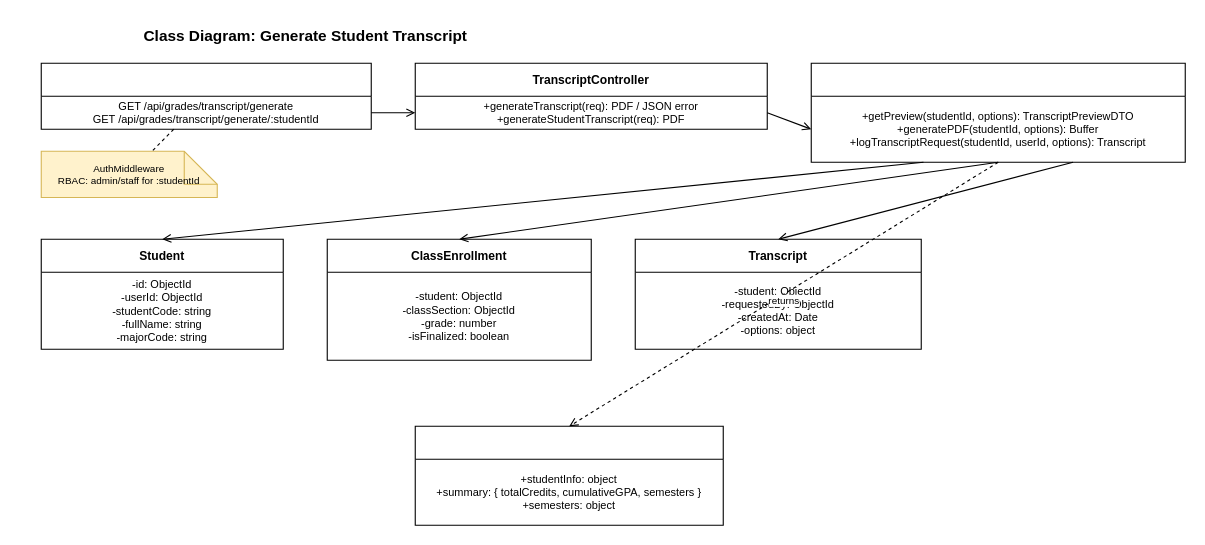
Some shapes in this 1205 by 545 pixel diagram are drawn without their labels. The box of each missing label's shape, as (x1, y1, x2, y2) in pixels:
TranscriptPreviewDTO: (414, 425, 723, 525)
TranscriptRouter: (40, 62, 371, 129)
TranscriptService: (810, 62, 1185, 162)
